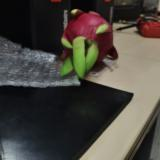pitaya: (59, 10, 113, 72)
